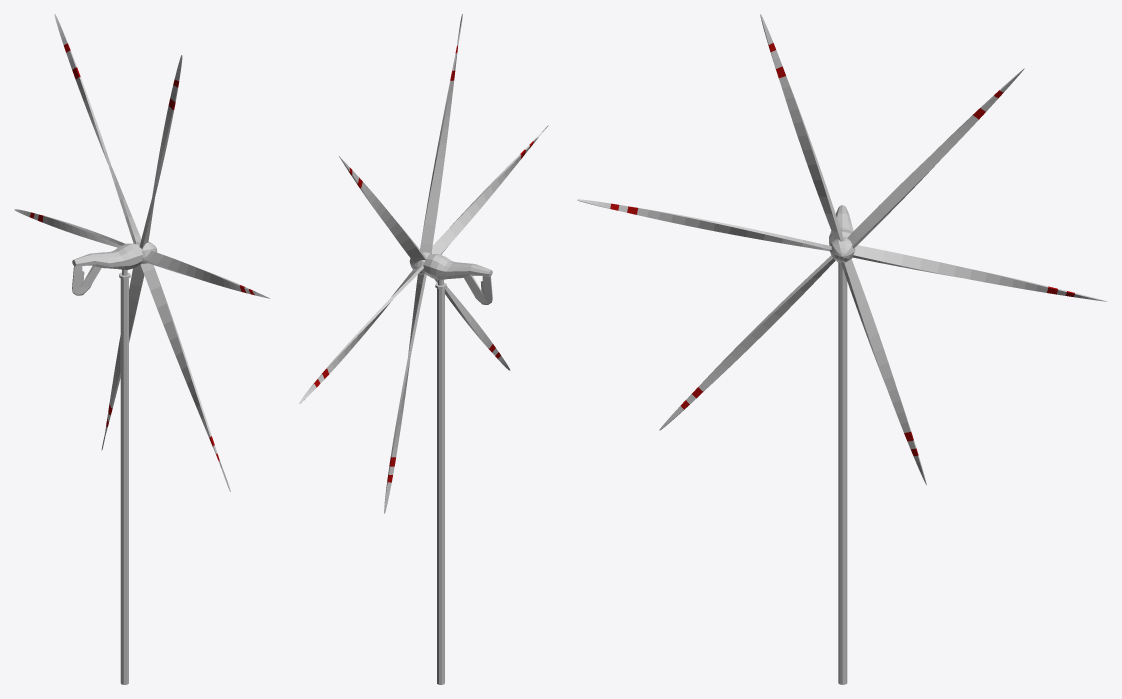
The model's file is WindMillAdvanced.fbx.
3 renders of one model, left to right at view 1: azimuth 30°, elevation 25°; view 2: azimuth 150°, elevation 25°; view 3: azimuth 270°, elevation 25°, orthographic. The views are drawn at different scales.
Parts seen in each view (by area): view 1: WindmillAdvanced; view 2: WindmillAdvanced; view 3: WindmillAdvanced.
Boxes of the visible parts, box(x1,y1,x2,y2) form: WindmillAdvanced: box(14, 14, 270, 684); WindmillAdvanced: box(299, 14, 548, 684); WindmillAdvanced: box(577, 14, 1107, 684).
Size of the model in its own units: 8.9 by 65.67 by 46.6.
